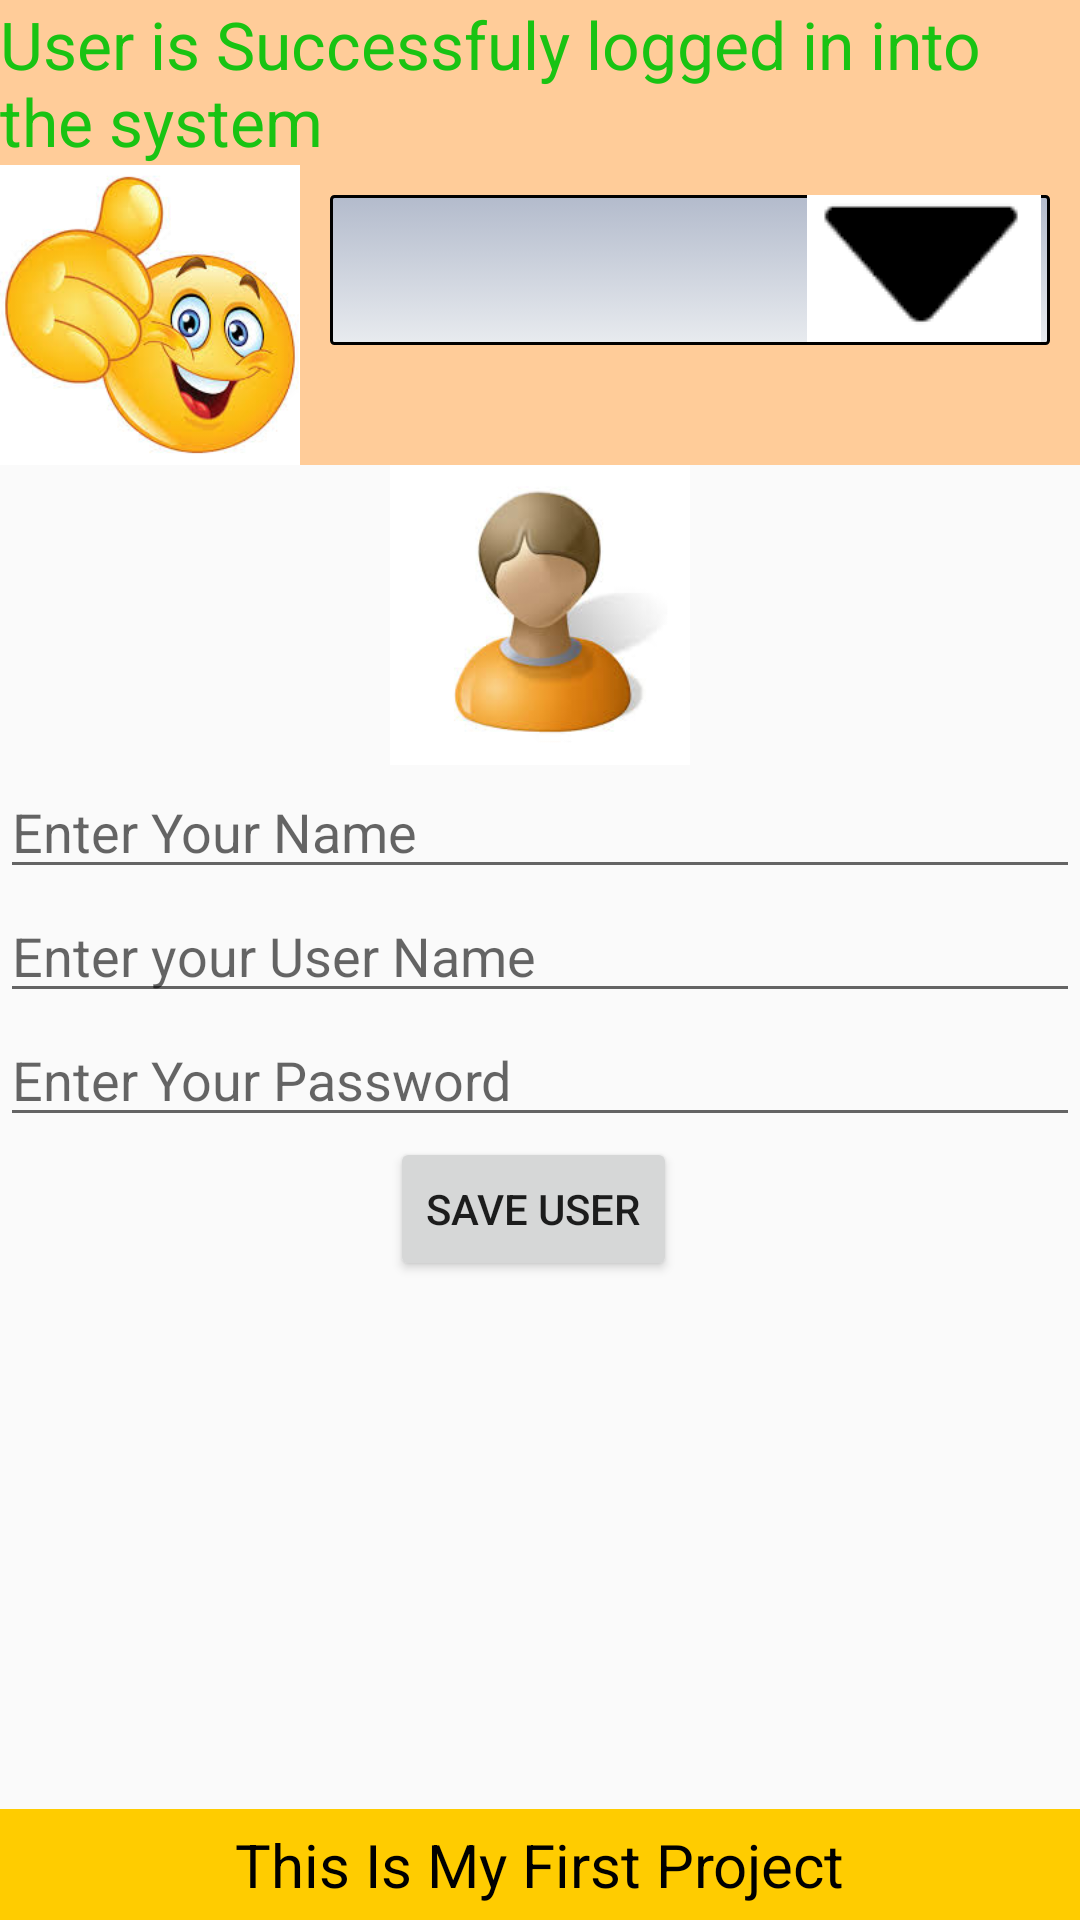

Where to tap for icons on this 1080px x 1920px app screen, as (x=x, y=y):
profile: (x=548, y=612)
thumbsup: (x=150, y=315)
